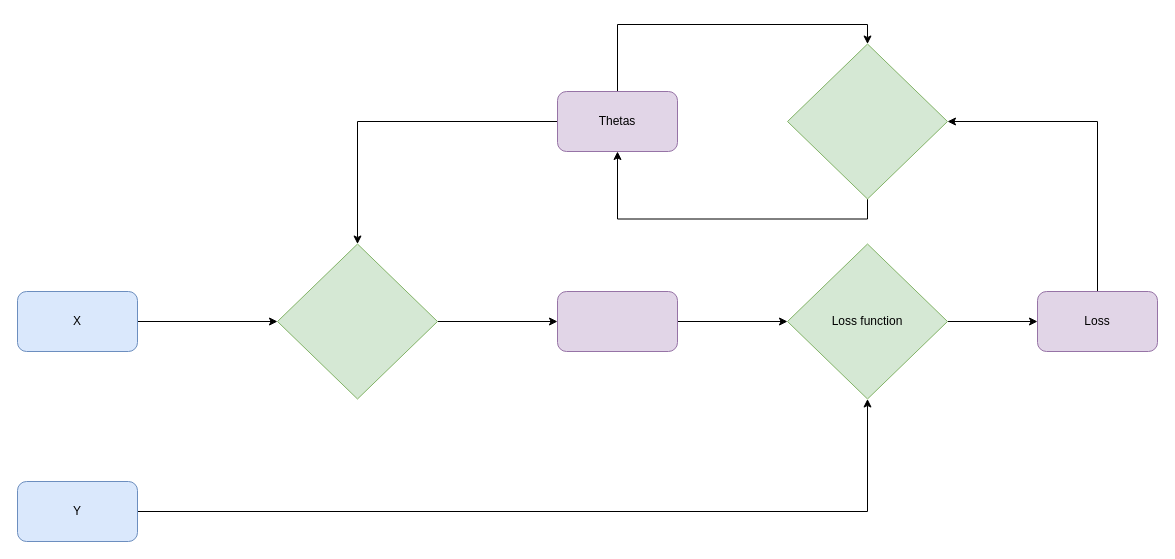
Image size: 1175x559. Some labels were removed from this diagram. The shapes that lost their labels are listed below. From the top down, each one's box as (x1, y1, x2, y2) in pixels, then its label:
(786, 43, 948, 199): Optimizer
(276, 243, 438, 399): Predictor
(556, 290, 678, 352): Y hat
